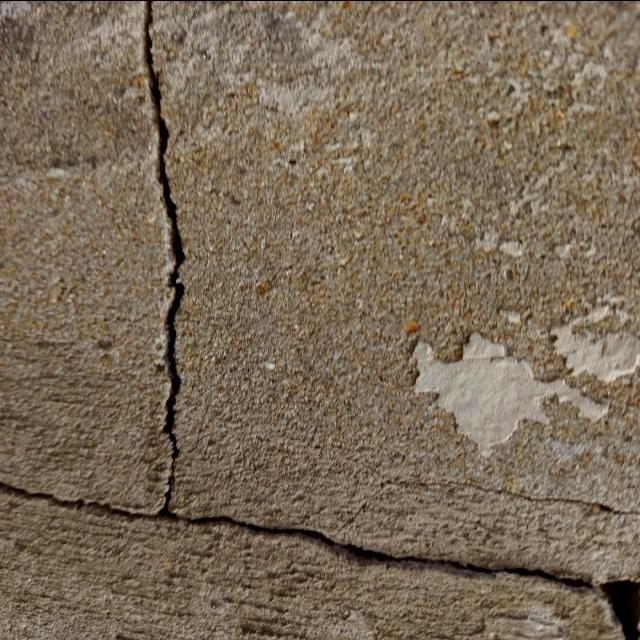SurfaceCrack: (110, 0, 223, 584)
